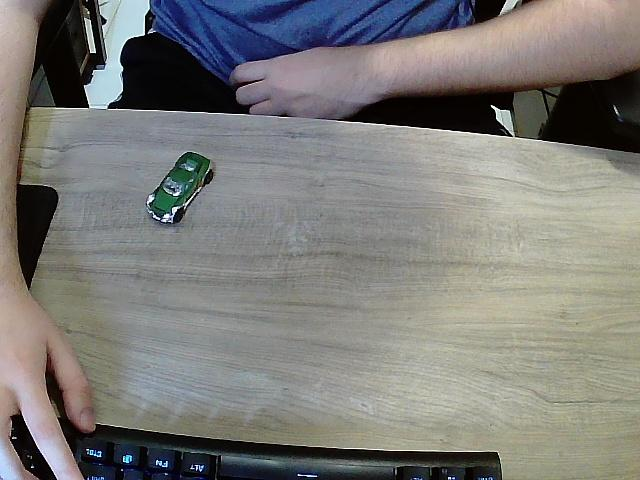Carro: (147, 154, 214, 226)
